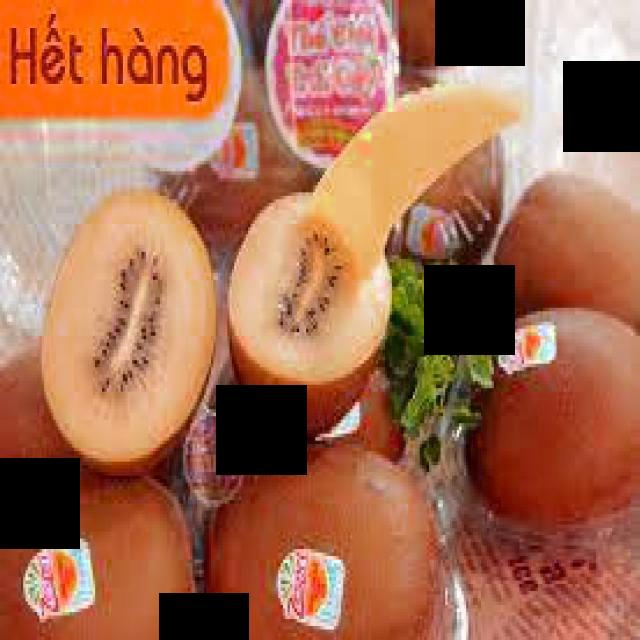kiwi: (203, 452, 449, 638), (469, 306, 639, 526), (8, 449, 203, 638), (495, 172, 639, 316)
